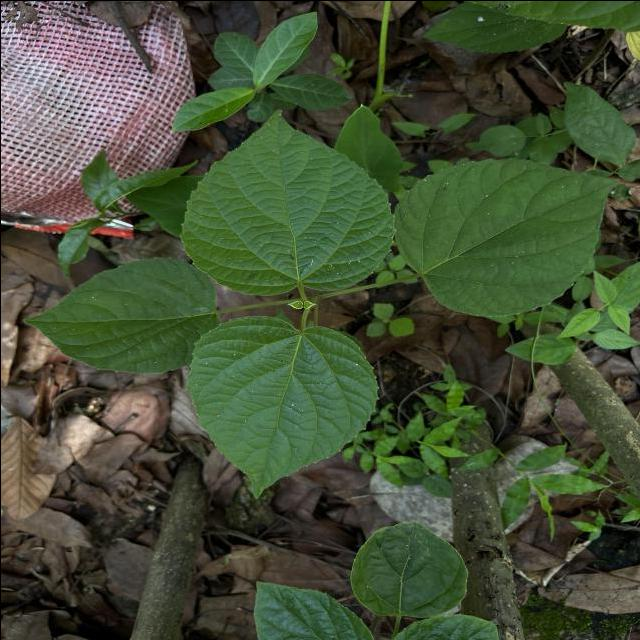Clerodendrum infortunatum: (178, 106, 394, 297), (390, 156, 622, 318), (182, 314, 380, 502), (21, 254, 218, 376)
